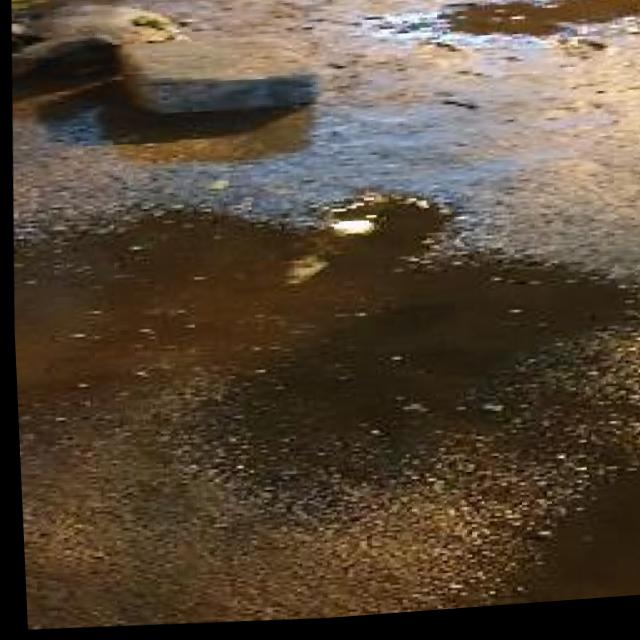puddle: (8, 167, 624, 499), (427, 1, 640, 61)
